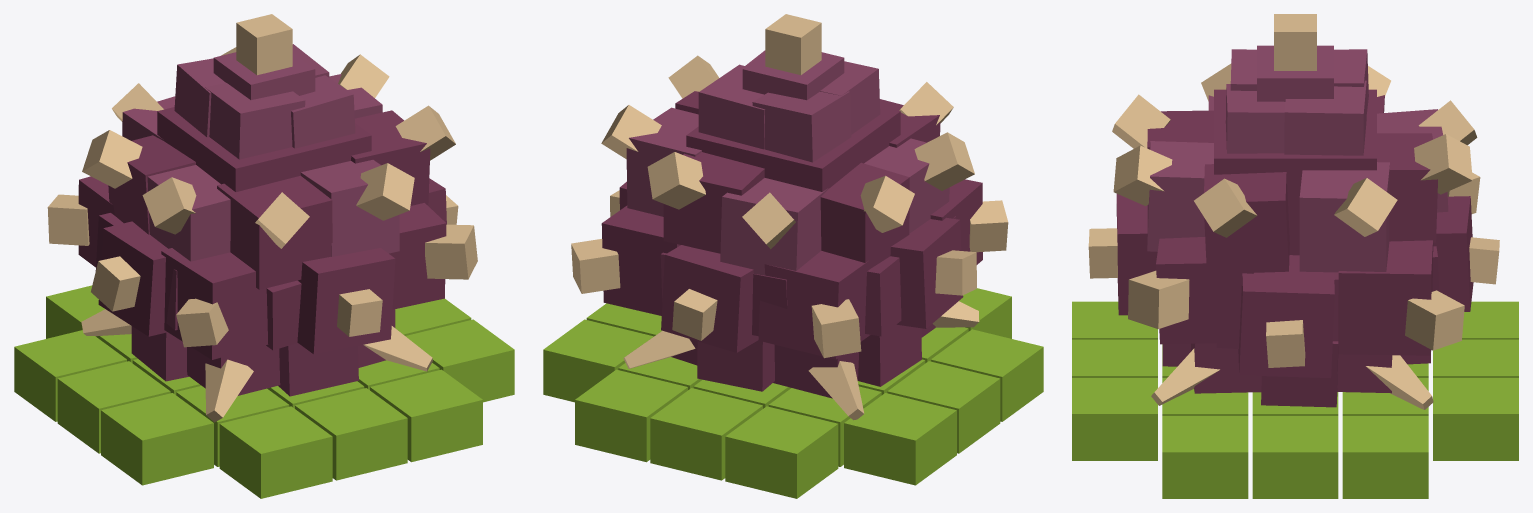
The model's file is Thornwood_ThornBush.glb.
3 renders of one model, left to right at view 1: azimuth 30°, elevation 25°; view 2: azimuth 150°, elevation 25°; view 3: azimuth 270°, elevation 25°, orthographic. The views are drawn at different scales.
Parts seen in each view (by area): view 1: bramble_clump_cubes, grass_base_cubes, thorn_tips, bramble_clump_light_tops, thorn_spikes_low; view 2: bramble_clump_cubes, grass_base_cubes, bramble_clump_light_tops, thorn_tips, thorn_spikes_low; view 3: bramble_clump_cubes, grass_base_cubes, bramble_clump_light_tops, thorn_tips, thorn_spikes_low.
Part boxes in pixels (box(x1,y1,x2,y2)): bramble_clump_cubes: box(78, 107, 446, 396); grass_base_cubes: box(14, 285, 514, 498); thorn_tips: box(47, 14, 477, 347); bramble_clump_light_tops: box(122, 44, 399, 261); thorn_spikes_low: box(81, 309, 432, 422); bramble_clump_cubes: box(601, 91, 982, 398); grass_base_cubes: box(543, 288, 1043, 498); bramble_clump_light_tops: box(626, 50, 949, 275); thorn_tips: box(571, 14, 1008, 358); thorn_spikes_low: box(623, 301, 979, 420); bramble_clump_cubes: box(1116, 89, 1473, 407); grass_base_cubes: box(1072, 301, 1518, 498); bramble_clump_light_tops: box(1147, 45, 1448, 272); thorn_tips: box(1088, 14, 1499, 367); thorn_spikes_low: box(1151, 348, 1433, 409).
Bounding box in the file's own units: 1.04 × 0.98 × 1.04.
